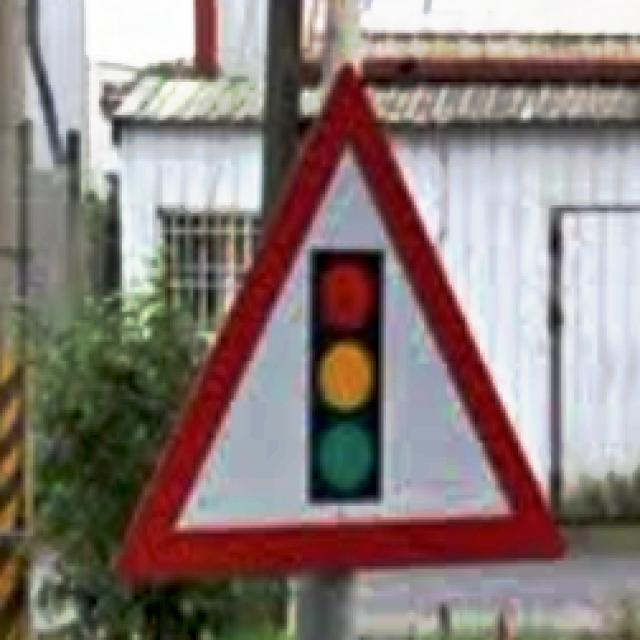signalahead: (117, 69, 569, 582)
